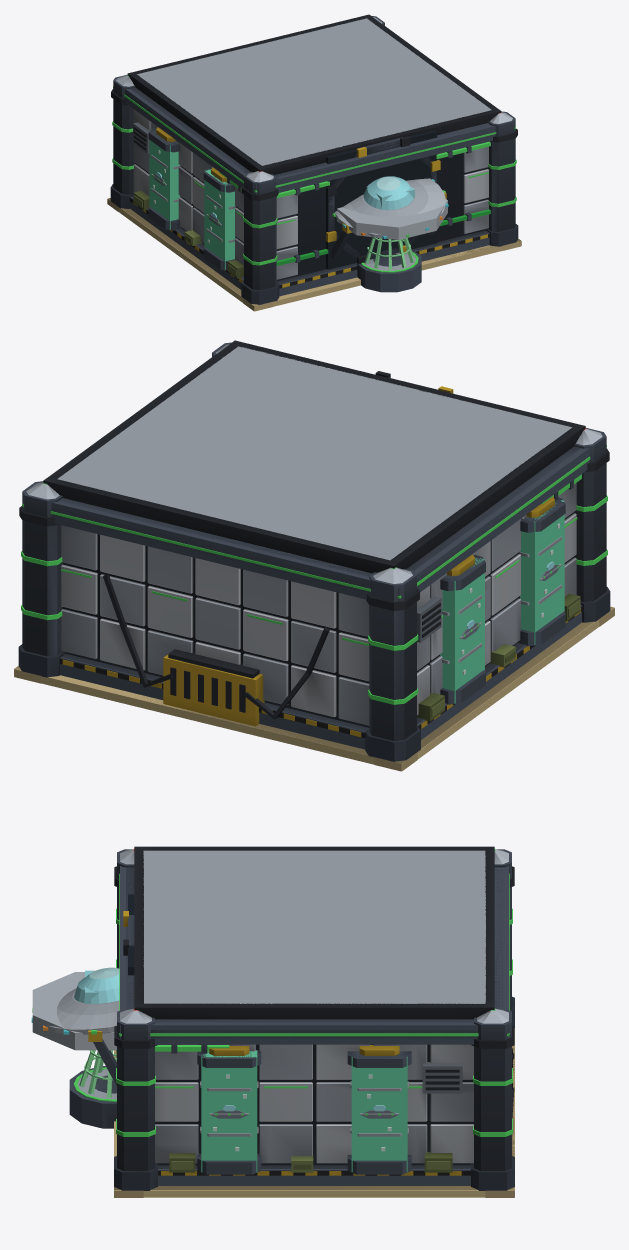
Rendered from UfoJarFloor.fbx.
3 renders of one model, top to bottom at view 1: azimuth 30°, elevation 25°; view 2: azimuth 150°, elevation 25°; view 3: azimuth 270°, elevation 25°, orthographic. The views are drawn at different scales.
Visible parts, largest first — view 1: UF_S_All, UF_F_Rings, UF_F_Props, UF_F_Glass, UF_F_Smooth, UF_F_Quiet; view 2: UF_S_All, UF_F_Rings, UF_F_Smooth, UF_F_Props, UF_F_Glass, UF_F_Quiet; view 3: UF_S_All, UF_F_Rings, UF_F_Props, UF_F_Glass, UF_F_Smooth, UF_F_Quiet.
Part boxes in pixels (x1,y1,x2,y2): UF_S_All: (108,18,520,311); UF_F_Rings: (113,14,515,292); UF_F_Props: (110,17,518,304); UF_F_Glass: (112,75,516,272); UF_F_Smooth: (107,121,521,311); UF_F_Quiet: (108,198,520,305); UF_S_All: (14,346,614,771); UF_F_Rings: (22,340,606,740); UF_F_Smooth: (14,480,614,771); UF_F_Props: (18,344,610,761); UF_F_Glass: (21,428,607,704); UF_F_Quiet: (15,606,613,763); UF_S_All: (32,850,514,1197); UF_F_Rings: (69,846,511,1170); UF_F_Props: (47,849,514,1190); UF_F_Glass: (31,849,512,1160); UF_F_Smooth: (77,1044,514,1197); UF_F_Quiet: (114,1045,514,1190).
Size of the model in its own units: 60 by 20 by 60.
